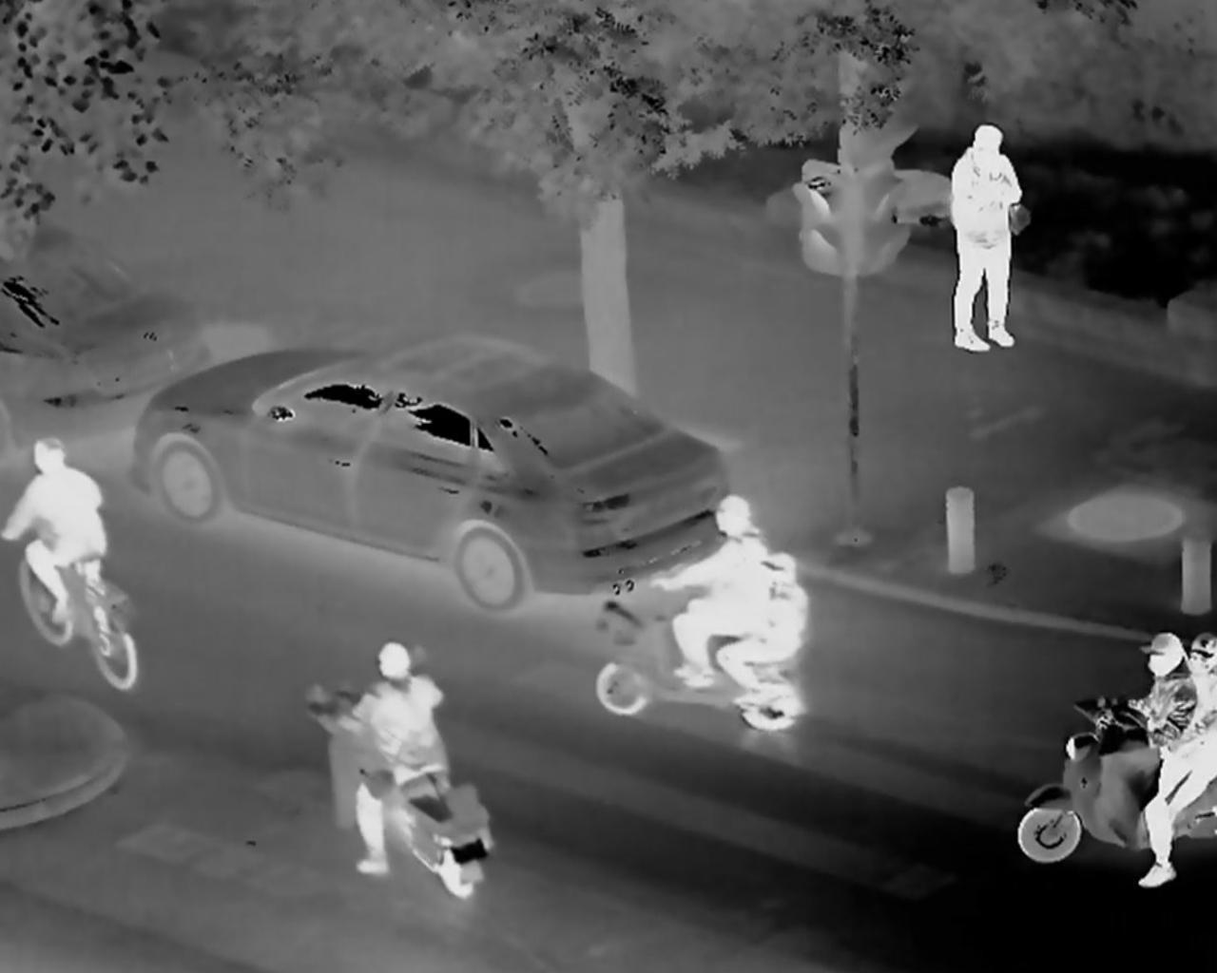person: (342, 635, 465, 886), (647, 494, 776, 677), (932, 113, 1021, 370), (10, 439, 119, 648), (1127, 628, 1195, 887), (722, 553, 805, 700), (1188, 637, 1217, 795)
